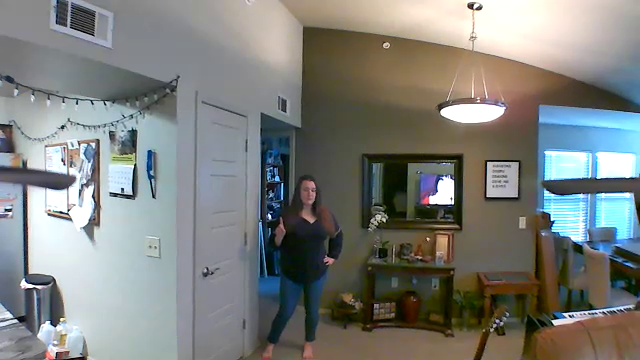up: (272, 217, 287, 239)
